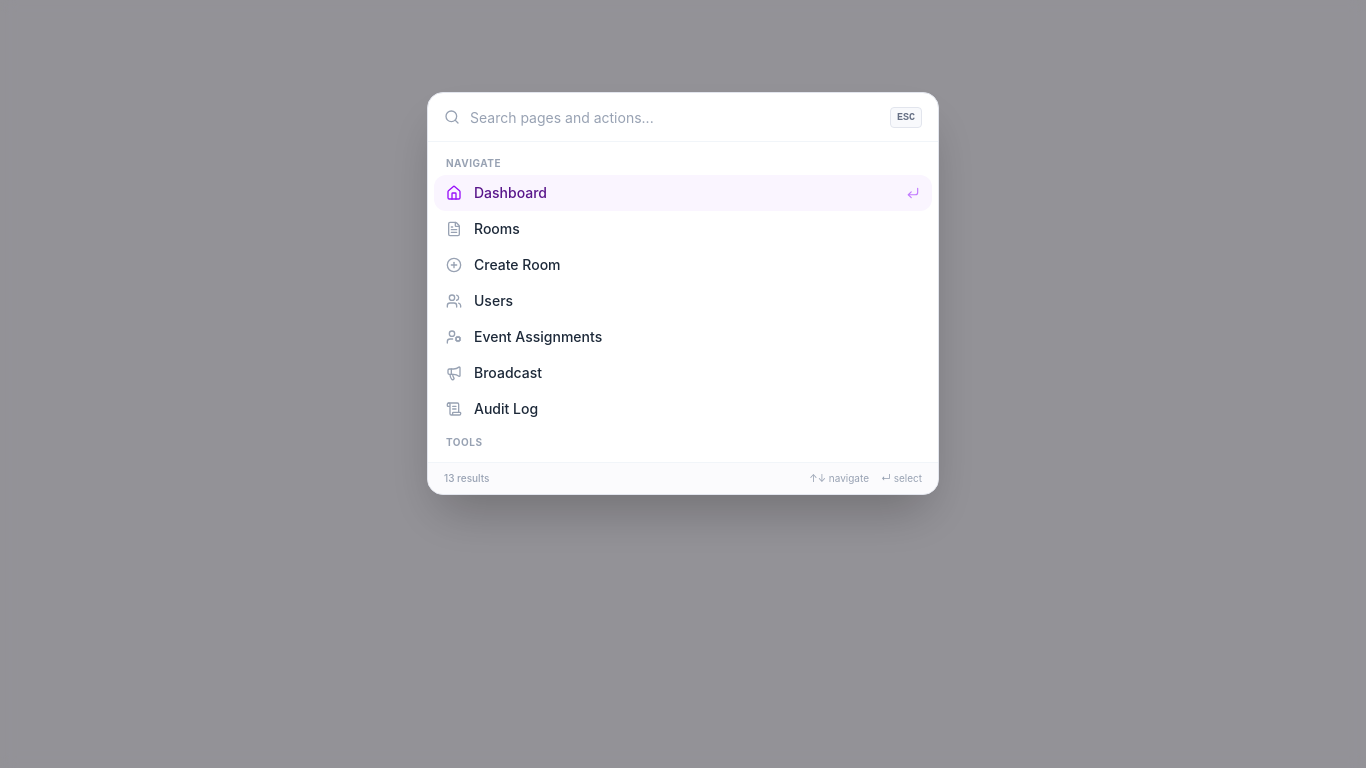
Test case: CommandPalette › filters on keywords the label does not contain
The image size is (1366, 768).
# "export" appears nowhere in the word "Reports".
In the field: (675, 117) [470,93,880,141], type "export"
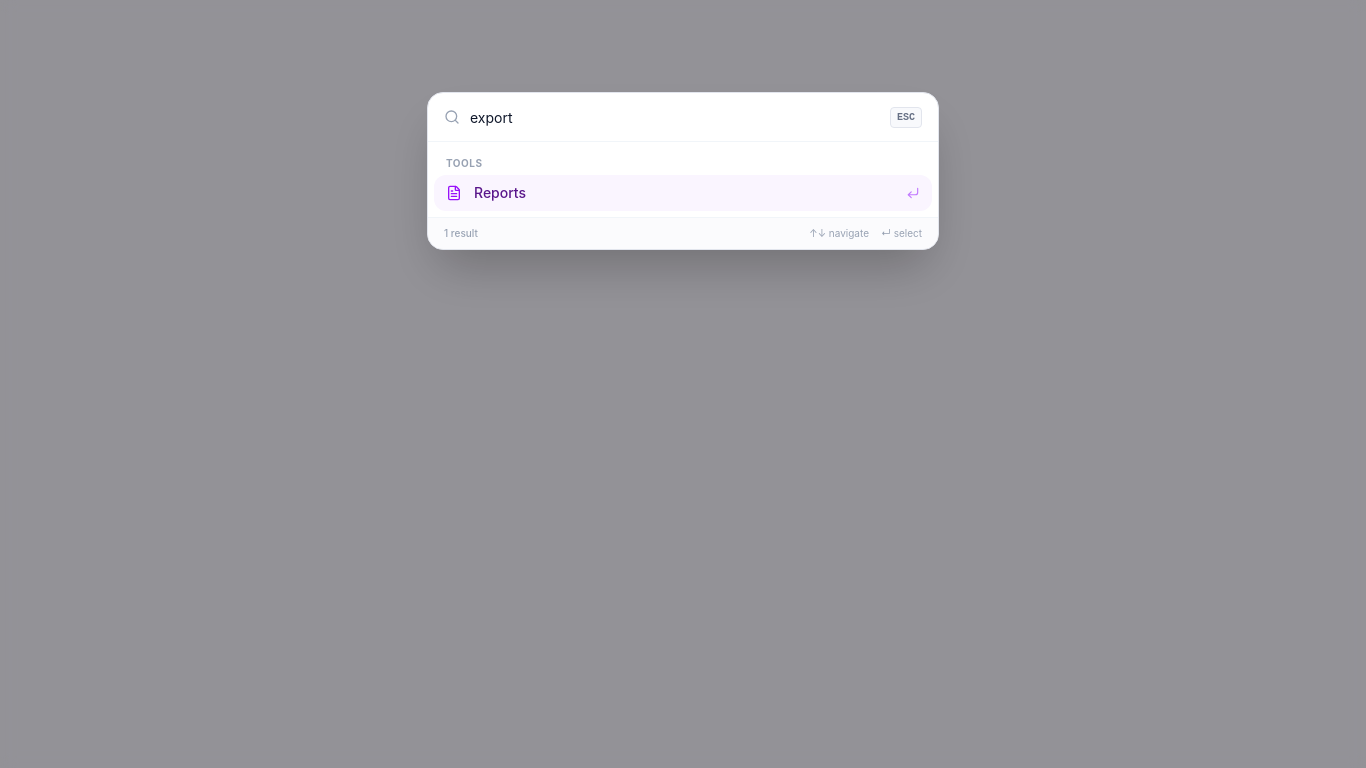
Now the option "Reports" is shown, box [434,175,932,211]
